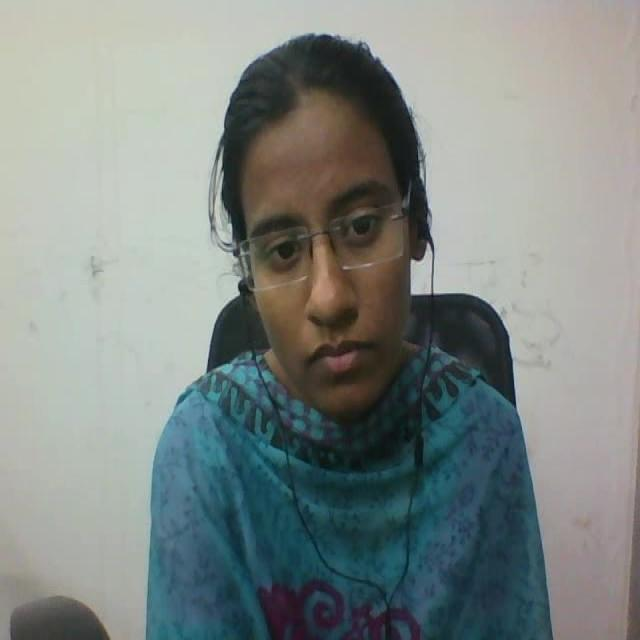Engaged: (194, 0, 453, 420)
